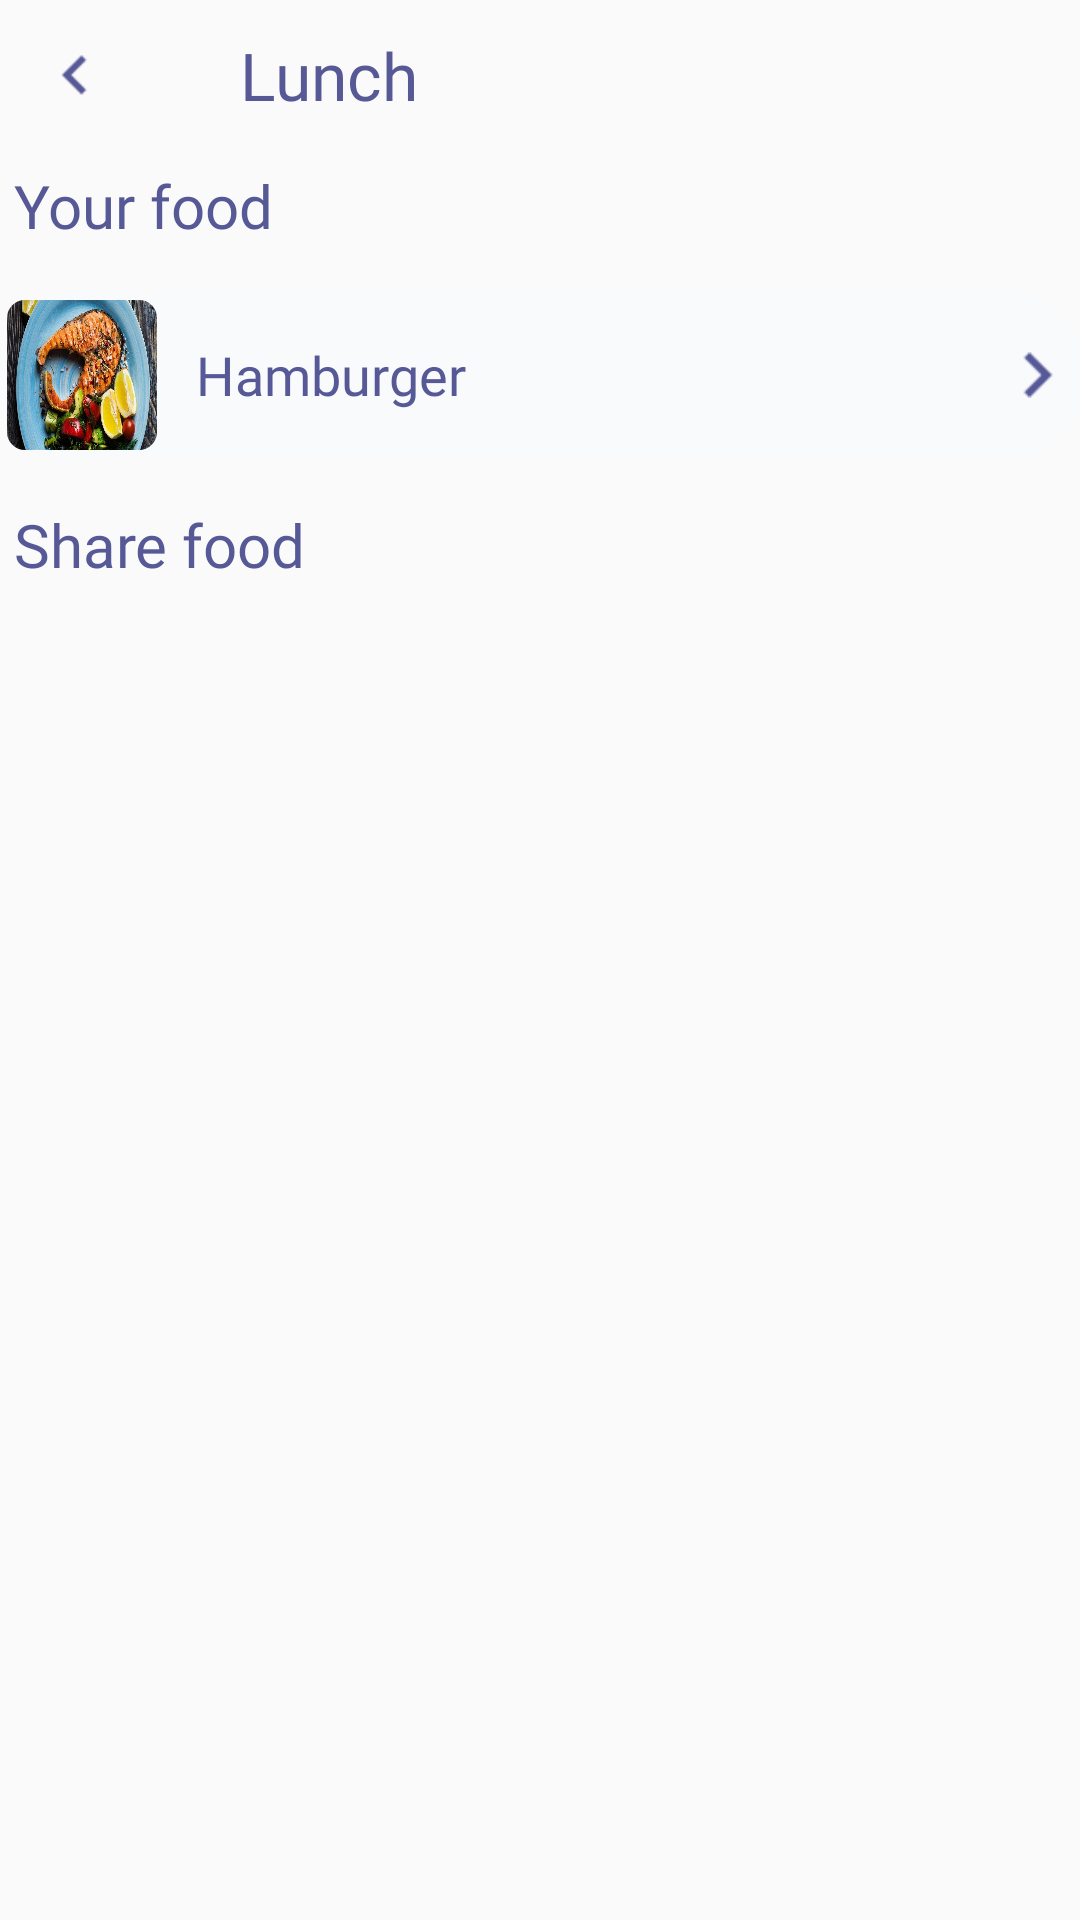

Where icons sit on this 1080px x 1920px app screen, as [x1, y1, x2, y2]:
chevron left: [62, 55, 87, 95]
chevron right: [1024, 352, 1052, 398]
meal: [7, 300, 157, 450]
